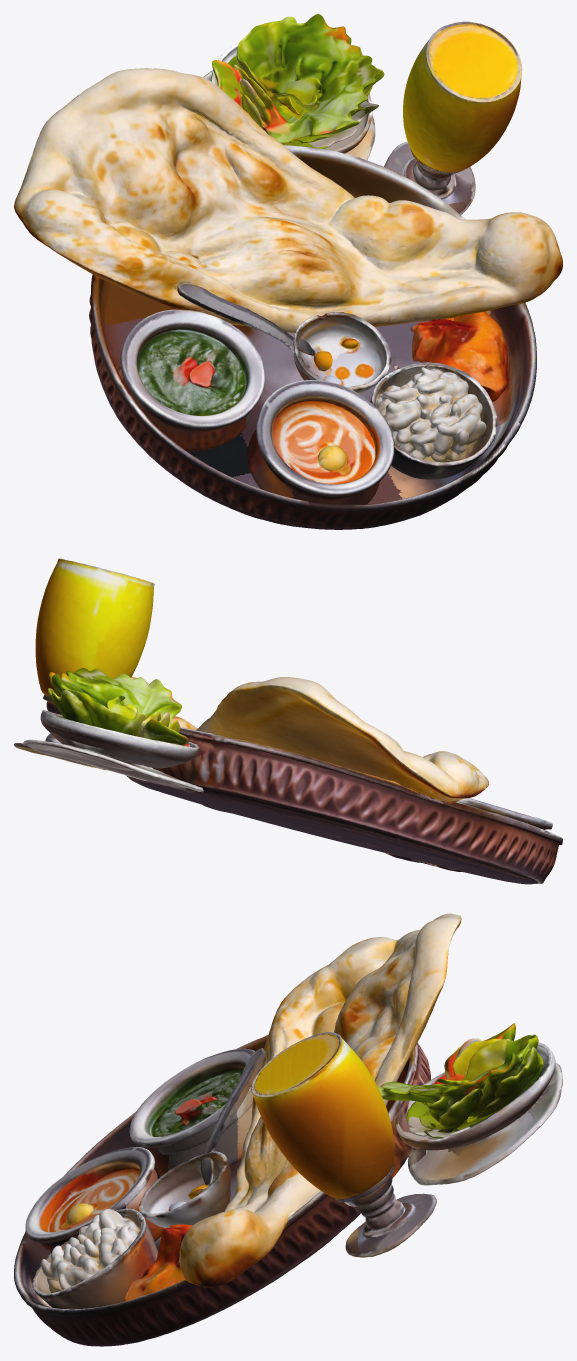
The model's file is signature-dish.glb.
3 renders of one model, top to bottom at view 1: azimuth 30°, elevation 25°; view 2: azimuth 150°, elevation 25°; view 3: azimuth 270°, elevation 25°, orthographic. The views are drawn at different scales.
Parts seen in each view (by area): view 1: tmpys5a8fqvobj; view 2: tmpys5a8fqvobj; view 3: tmpys5a8fqvobj.
Part boxes in pixels (x1=…): tmpys5a8fqvobj: x1=14, y1=14, x2=562, y2=529; tmpys5a8fqvobj: x1=14, y1=558, x2=562, y2=884; tmpys5a8fqvobj: x1=14, y1=913, x2=562, y2=1346.
Bounding box in the file's own units: 1 × 0.7294 × 0.9912.
1 material, 1 textured.
